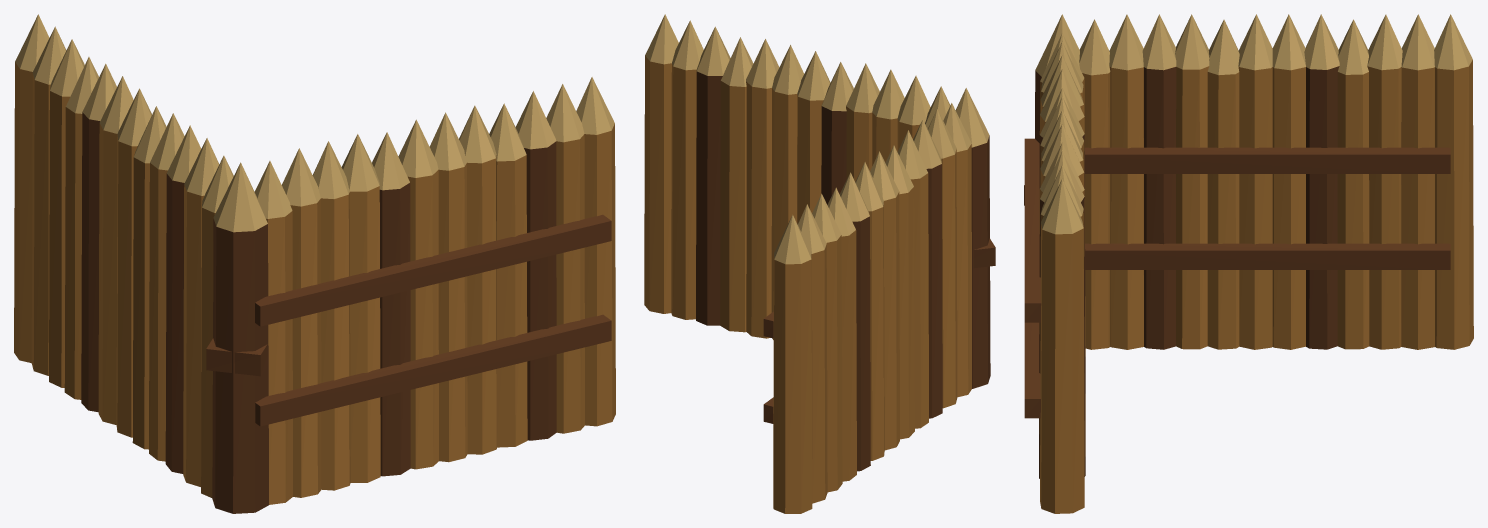
3 views of the same model, side by side, from view 1: azimuth 30°, elevation 25°; view 2: azimuth 150°, elevation 25°; view 3: azimuth 270°, elevation 25° (orthographic). The views are drawn at different scales.
Parts seen in each view (by area): view 1: WK_W10_LOD0_High; view 2: WK_W10_LOD0_High; view 3: WK_W10_LOD0_High.
Boxes of the visible parts, bbox=[...] form: WK_W10_LOD0_High: bbox=[14, 14, 615, 513]; WK_W10_LOD0_High: bbox=[644, 14, 995, 513]; WK_W10_LOD0_High: bbox=[1024, 14, 1473, 513].
Size of the model in its own units: 4 by 3.2 by 4.
